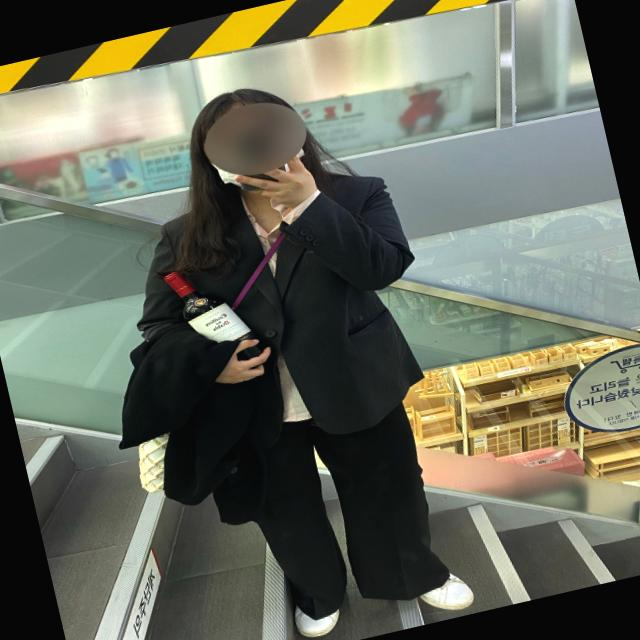blazer: (117, 138, 450, 470)
slacks: (224, 350, 455, 628)
